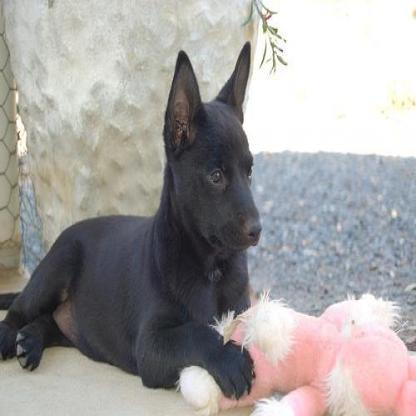kelpie: (0, 41, 260, 396)
